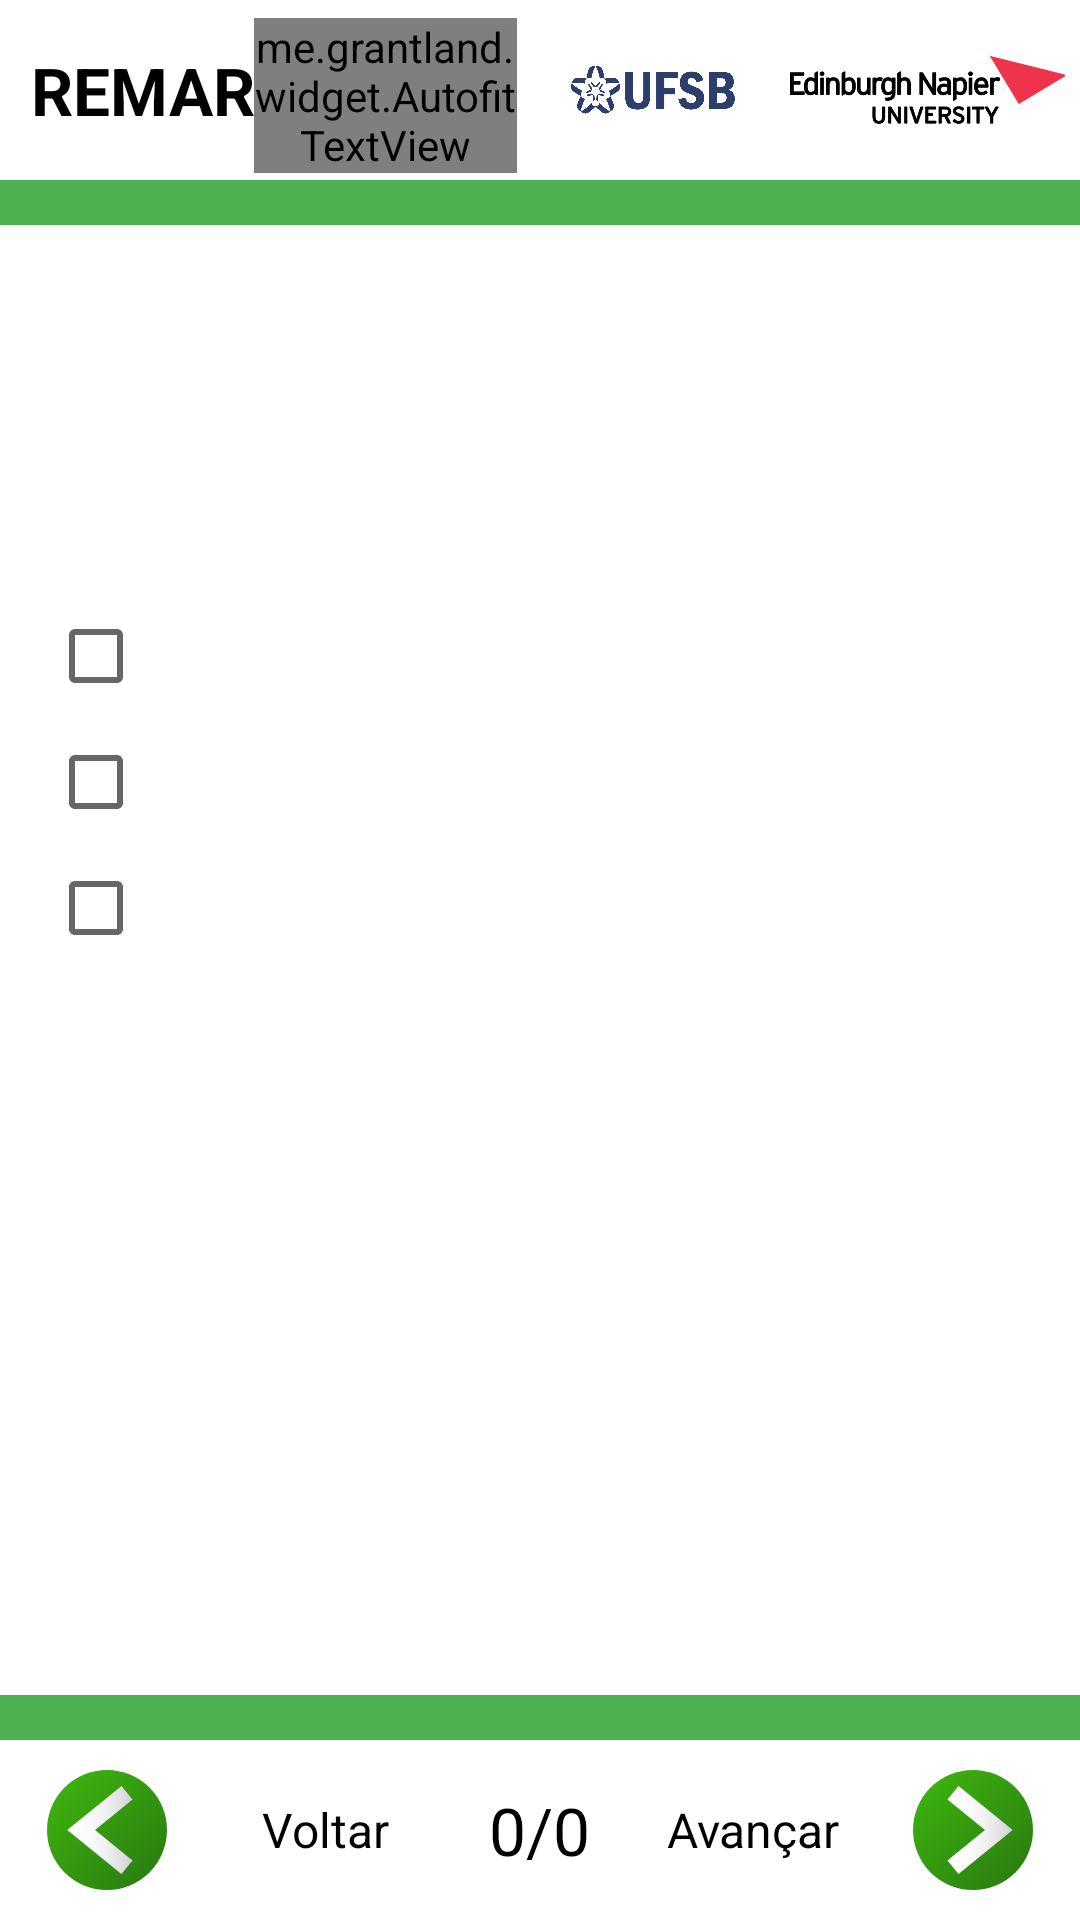

Where to tap for icons on this 1080 × 1920 app screen, as point (x, y):
back state: point (107, 1830)
next state: point (973, 1830)
